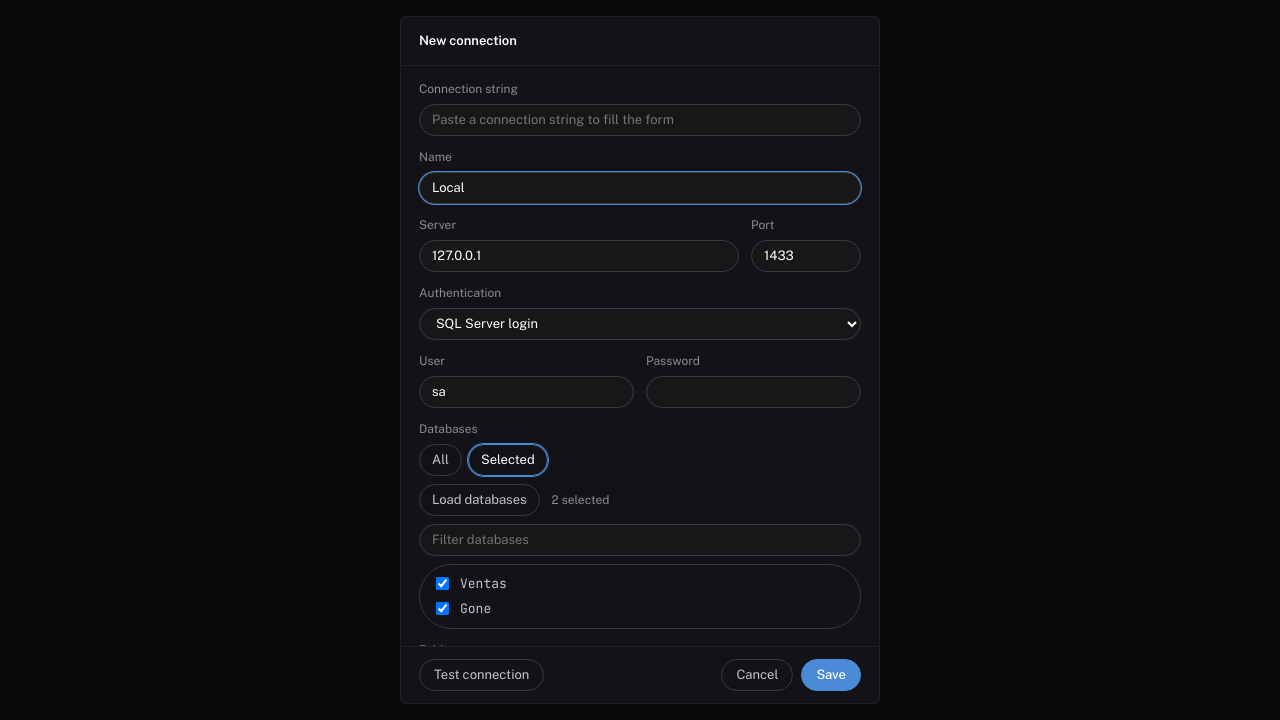
Test: a load error other than password_required is shown inline
Click the button "Load databases".
click(479, 500)  # box [419,484,540,516]
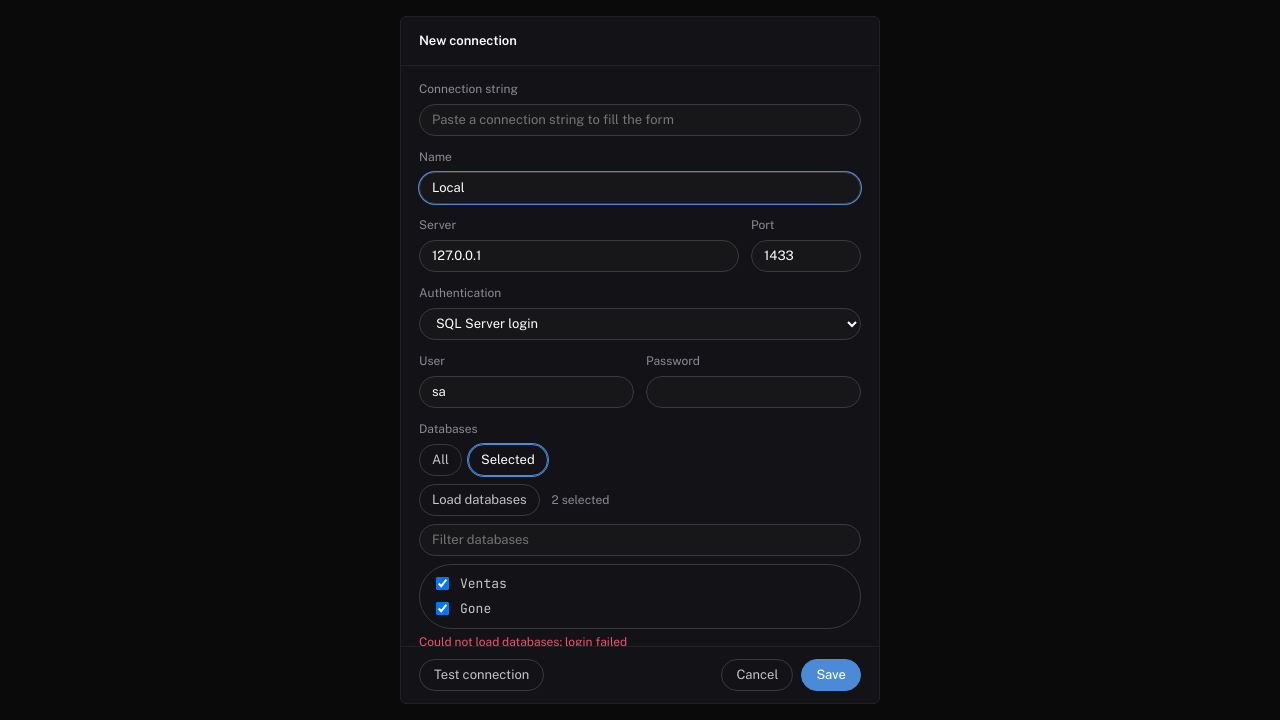
Expected: the message "Could not load databases: login failed" is shown, [419,634,627,646]
